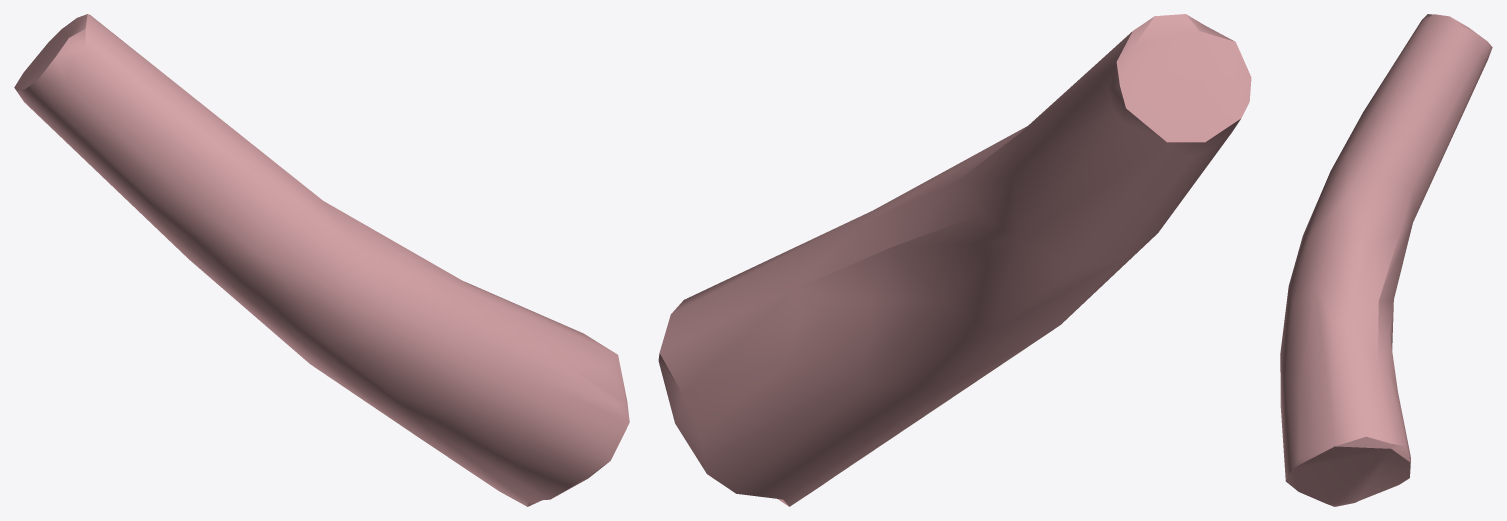
The model's file is fma68211_fj2523.glb.
The picture shows the model from 3 angles, left to right: view 1: azimuth 30°, elevation 25°; view 2: azimuth 150°, elevation 25°; view 3: azimuth 270°, elevation 25°; orthographic projection. The views are drawn at different scales.
Parts seen in each view (by area): view 1: FMA68211_FJ2523; view 2: FMA68211_FJ2523; view 3: FMA68211_FJ2523.
Boxes of the visible parts, x1,y1,x2,y2 form: FMA68211_FJ2523: (14, 14, 629, 506); FMA68211_FJ2523: (658, 14, 1251, 506); FMA68211_FJ2523: (1280, 14, 1492, 506).
Bounding box in the file's own units: 0.00818 × 0.00785 × 0.00411.
